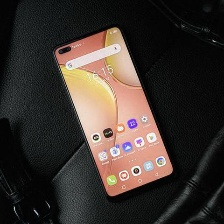phone: (47, 19, 177, 203)
